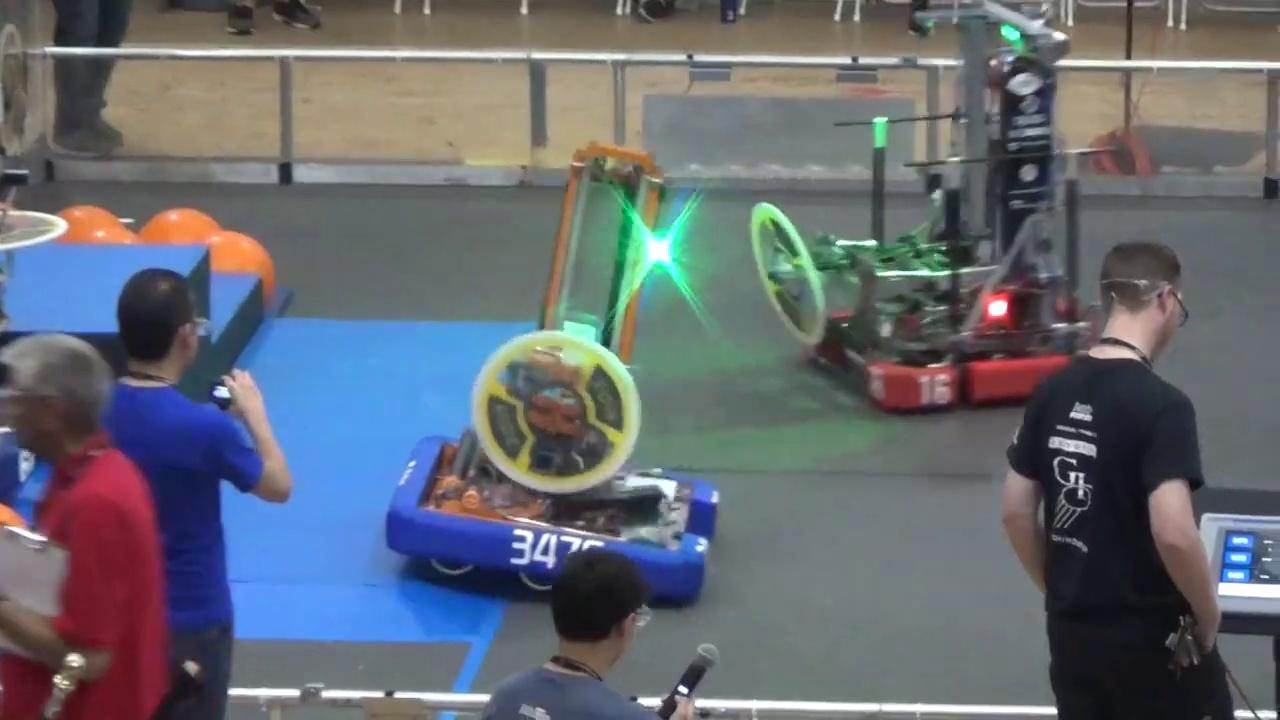robot: (379, 140, 727, 603), (749, 3, 1087, 411)
